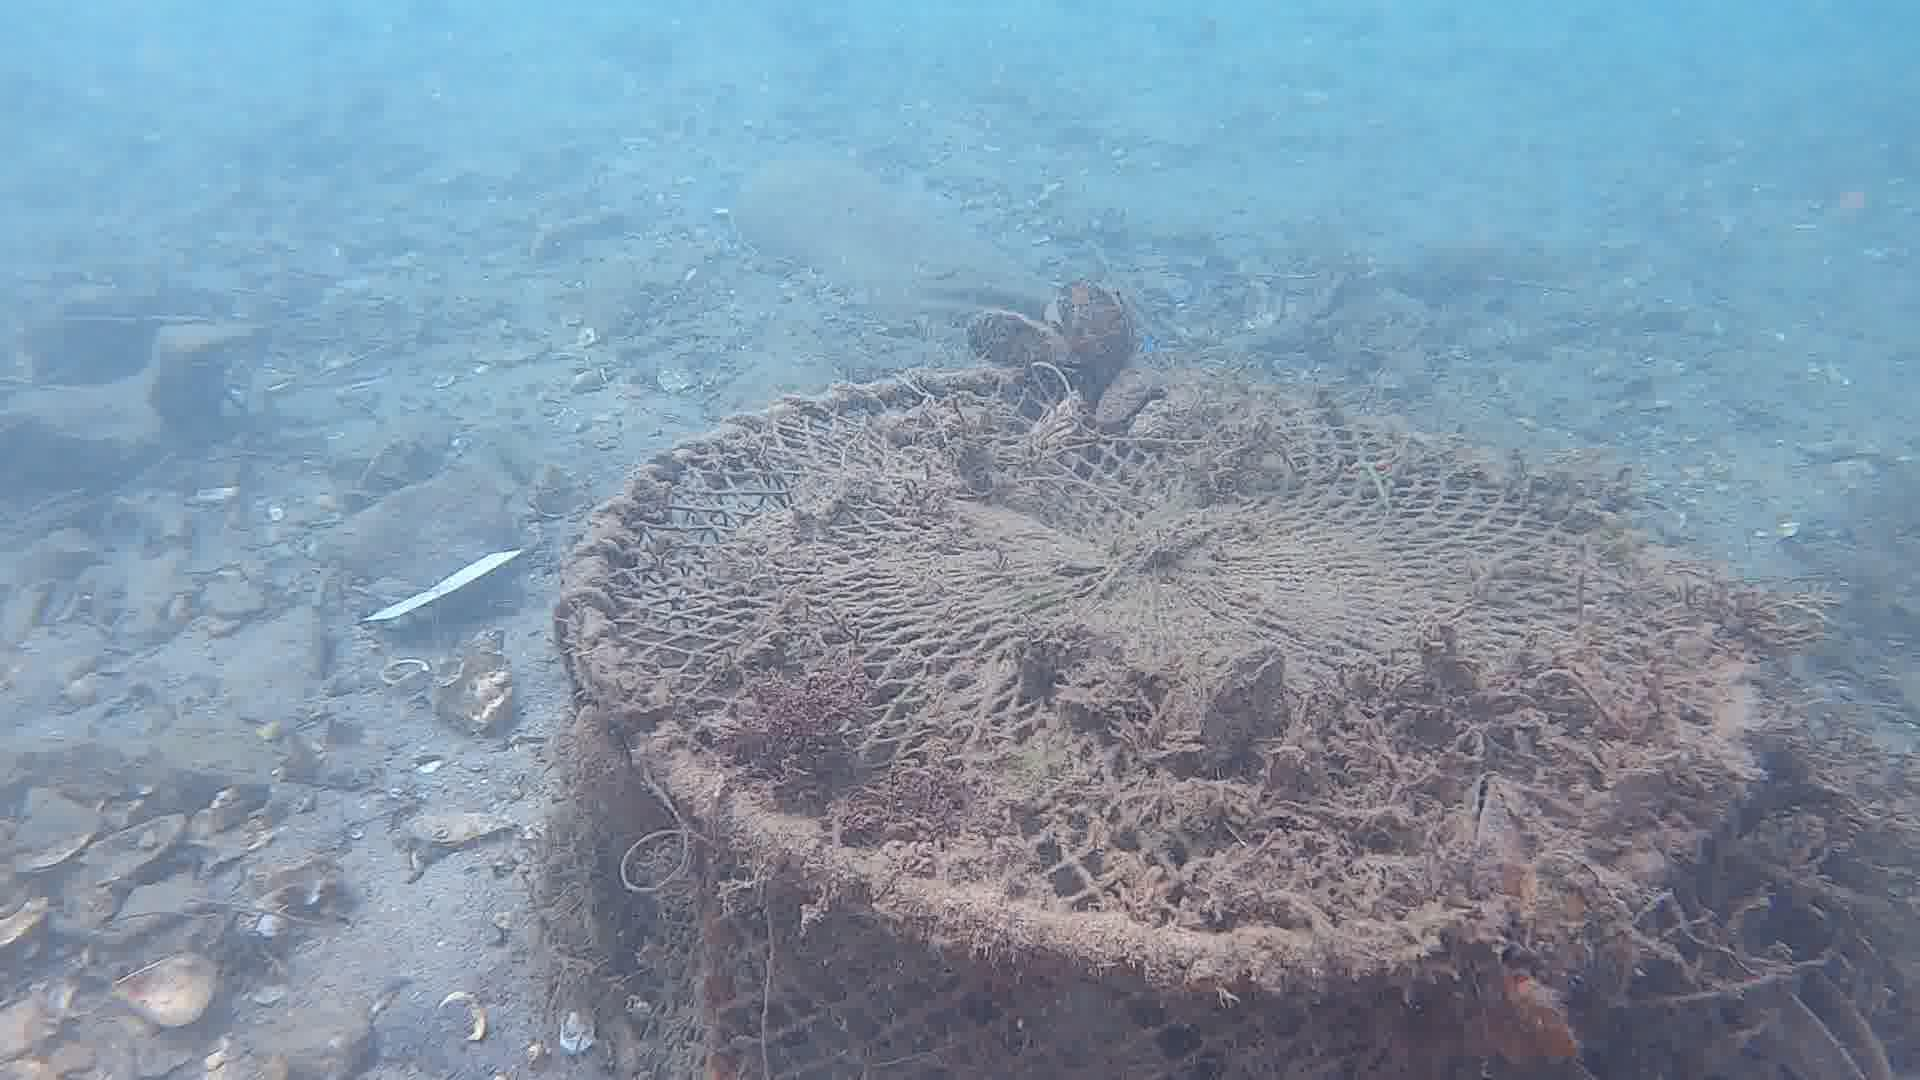circular fish trap: (555, 355, 1770, 1080)
